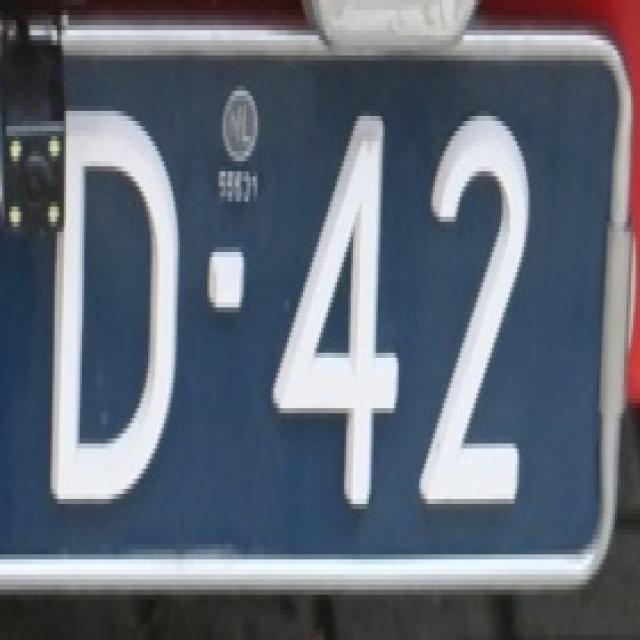licenseplate: (0, 29, 633, 581)
